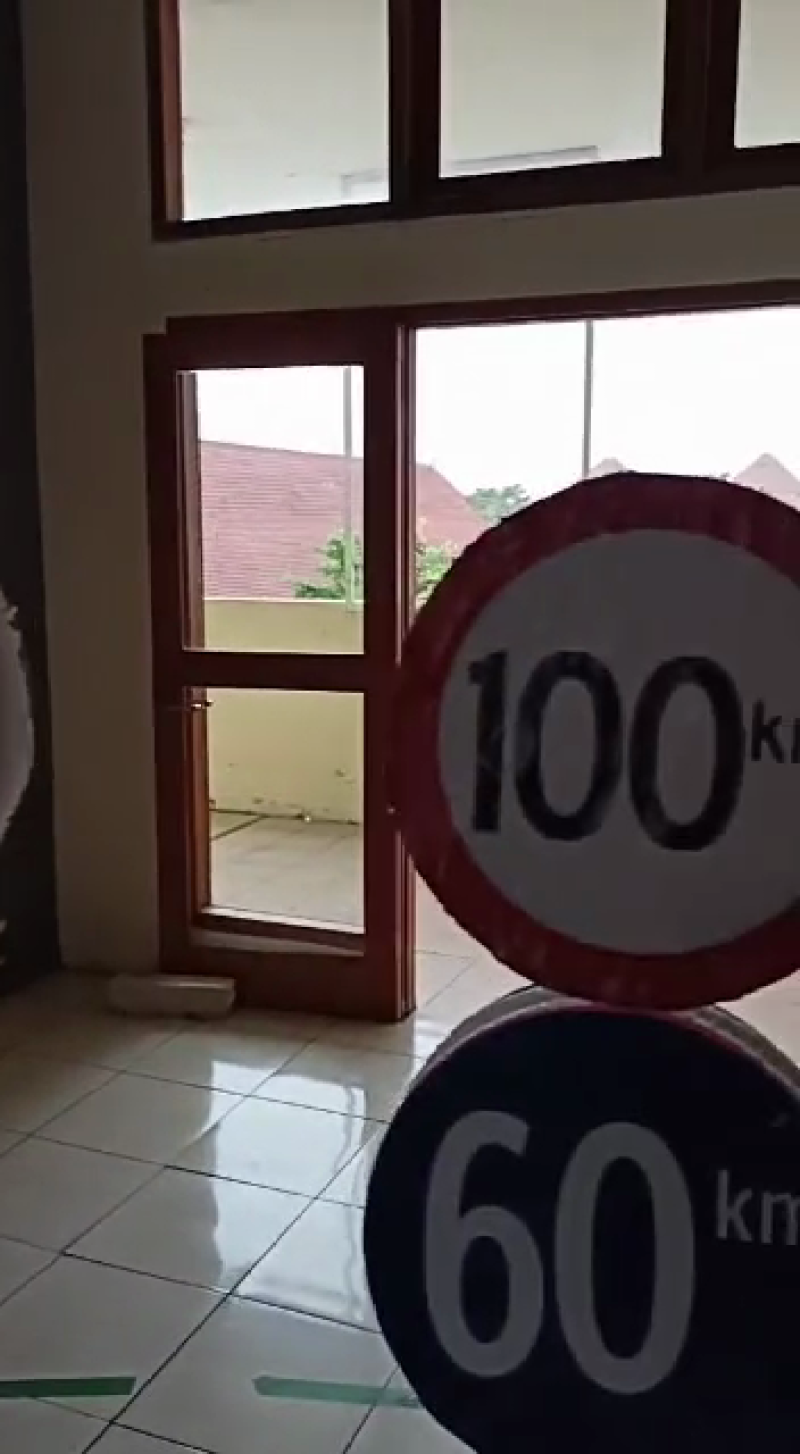batas maksimal 100kmperjam minimal 60kmperjam: (356, 467, 800, 1454)
